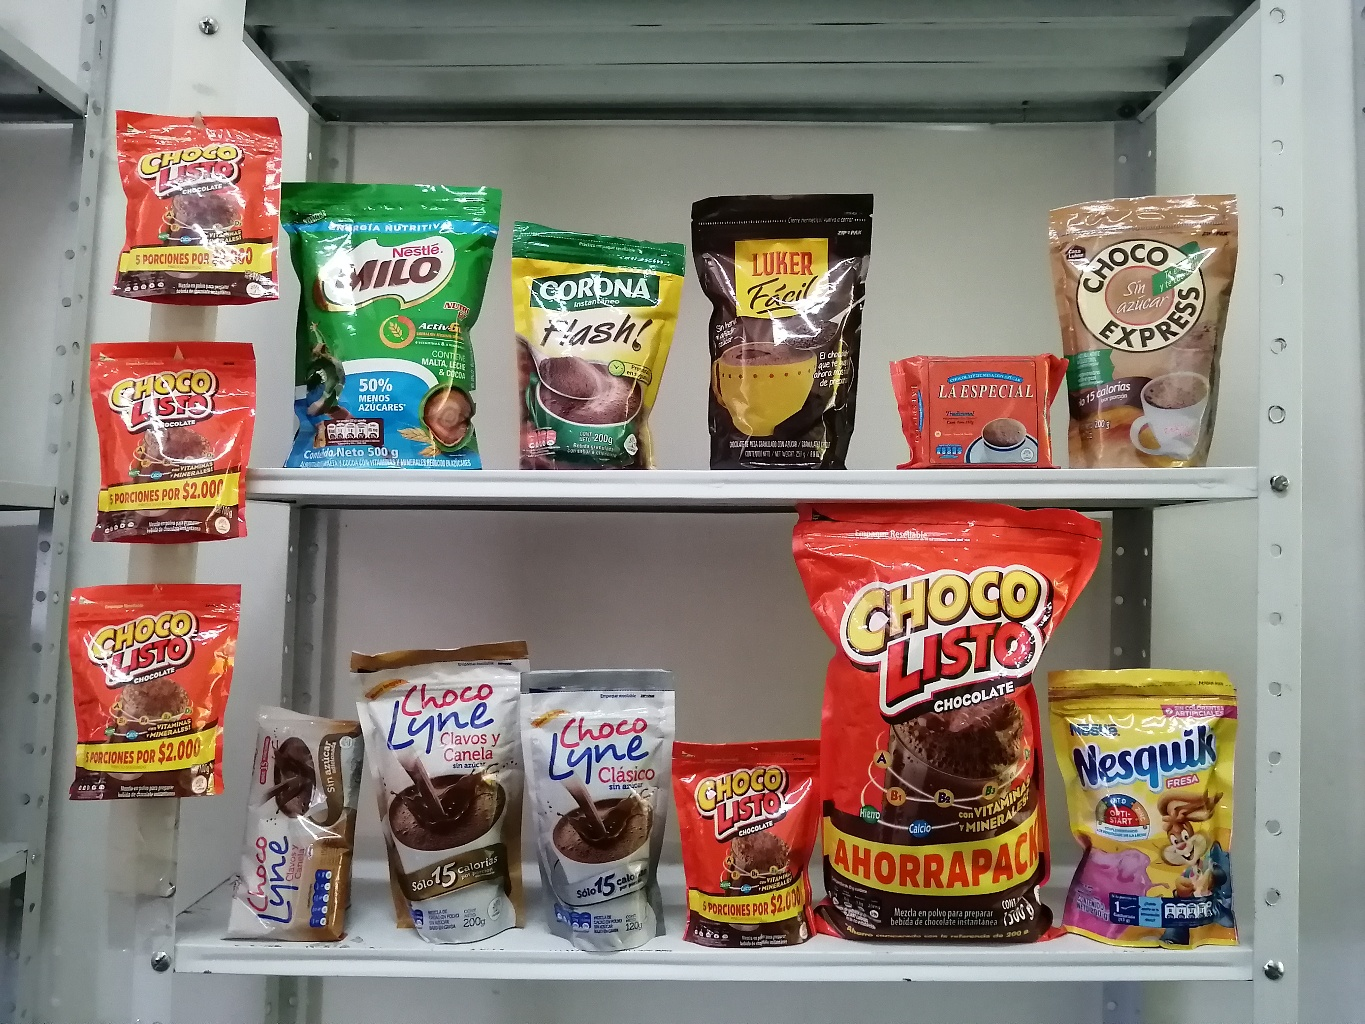COL0170103DYP1,500: (795, 504, 1098, 959)
COL0170205DYP50000: (287, 174, 504, 470)
COL0170305DYP20000: (1051, 663, 1245, 948)
